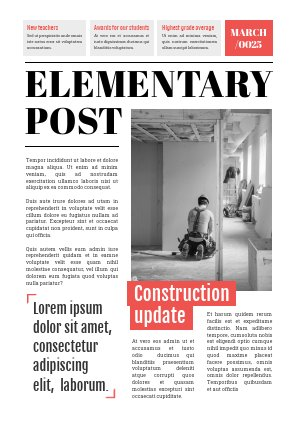news_paper: (7, 6, 291, 424)
